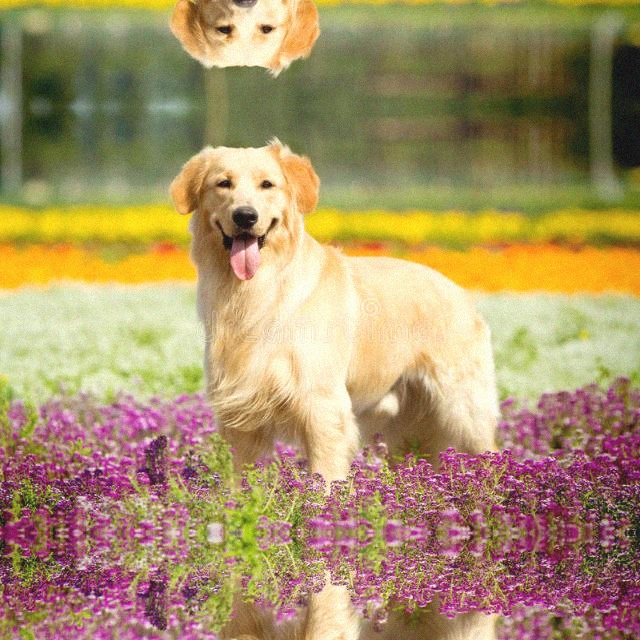dog: (171, 134, 539, 496), (171, 0, 539, 78), (171, 569, 539, 640)
